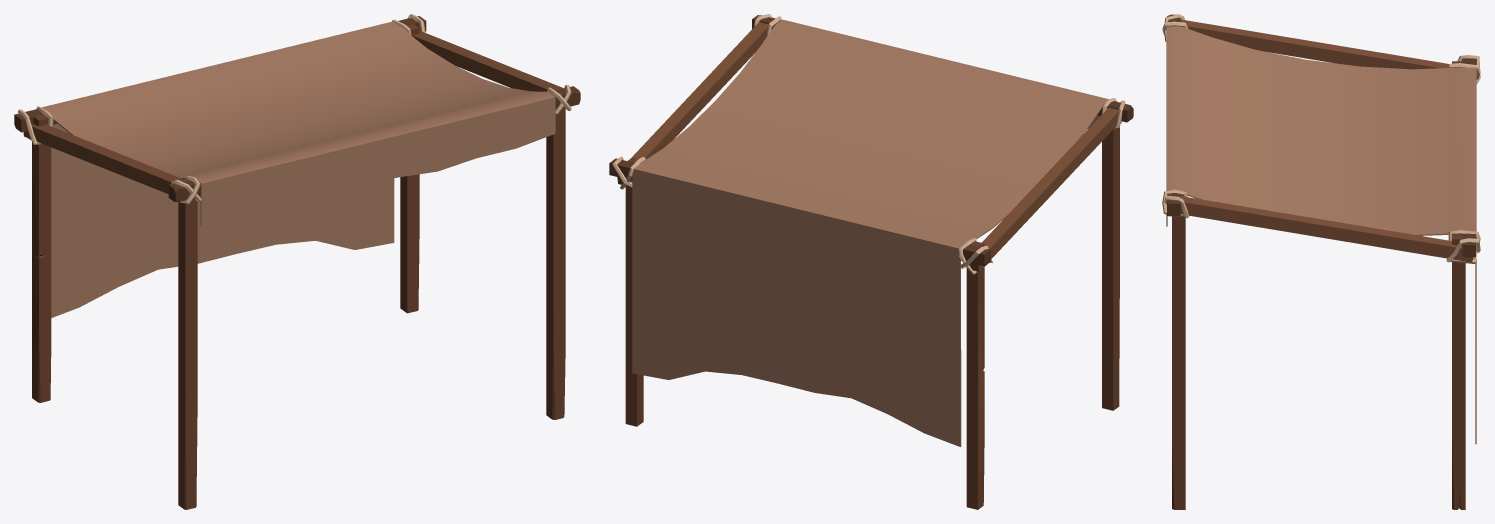
The model's file is Market_02.fbx.
3 views of the same model, side by side, from view 1: azimuth 30°, elevation 25°; view 2: azimuth 150°, elevation 25°; view 3: azimuth 270°, elevation 25° (orthographic). The views are drawn at different scales.
Parts seen in each view (by area): view 1: Market_02; view 2: Market_02; view 3: Market_02.
Part boxes in pixels (<box>): Market_02: <box>14,14,580,509</box>; Market_02: <box>609,14,1133,509</box>; Market_02: <box>1162,14,1480,509</box>.
Size of the model in its own units: 330 by 256 by 235.
